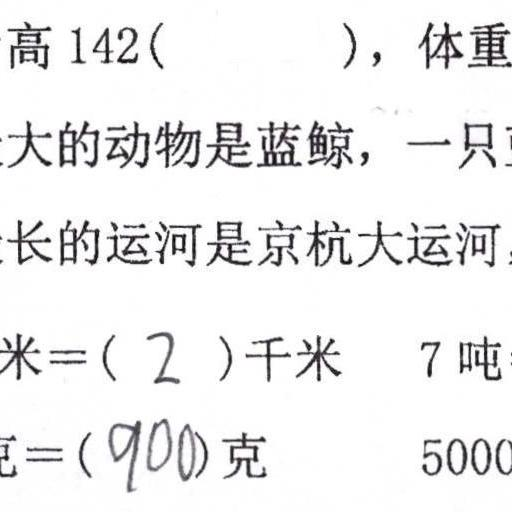ans: (104, 412, 198, 491), (141, 326, 183, 386)
